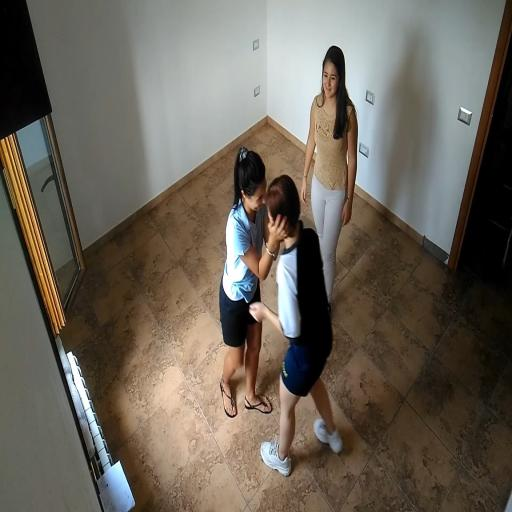nao-violencia: (193, 124, 357, 480)
